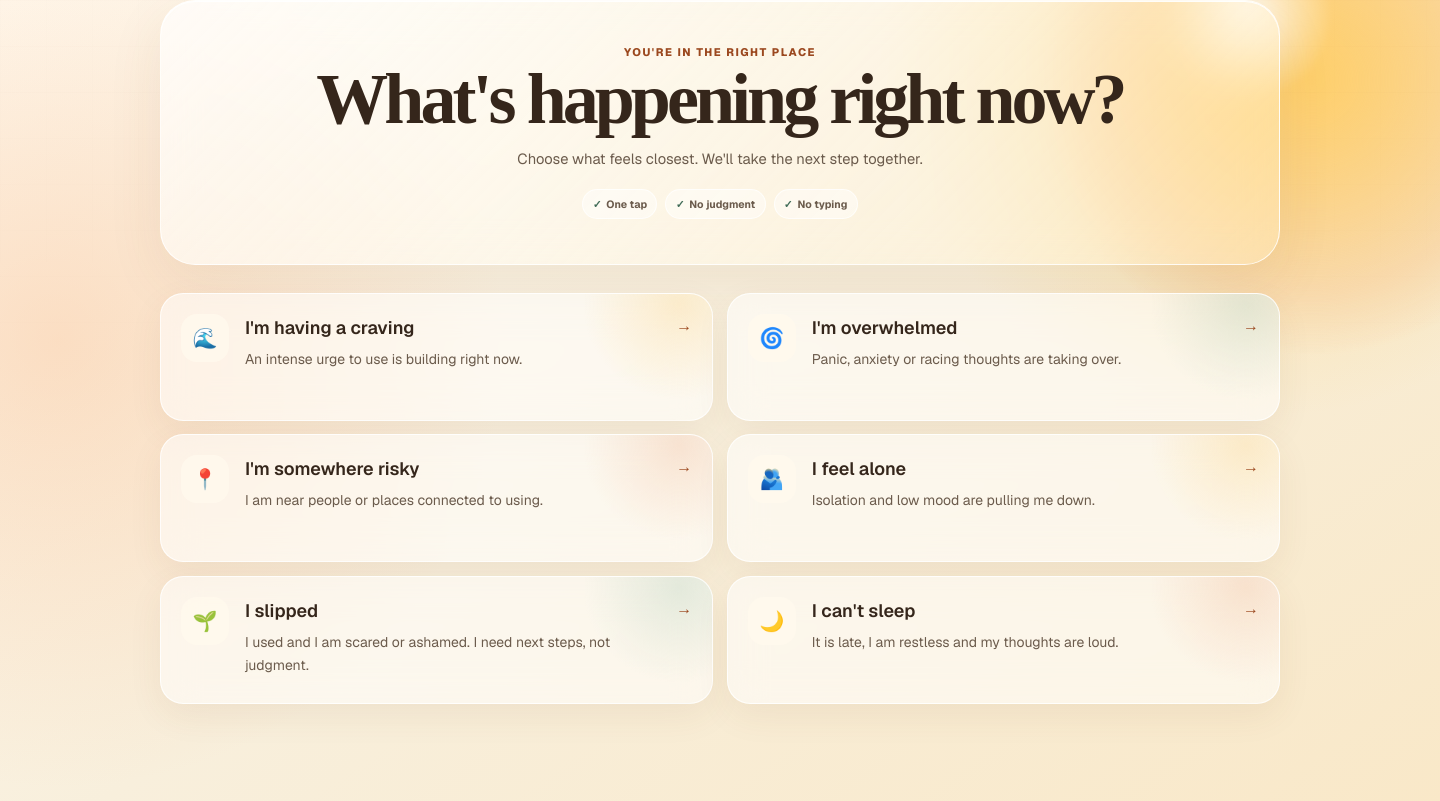
Test: SosFlow › keeps the fallback script when generation fails
Click the button "overwhelmed": (1003, 357) x1=727 y1=293 x2=1280 y2=421
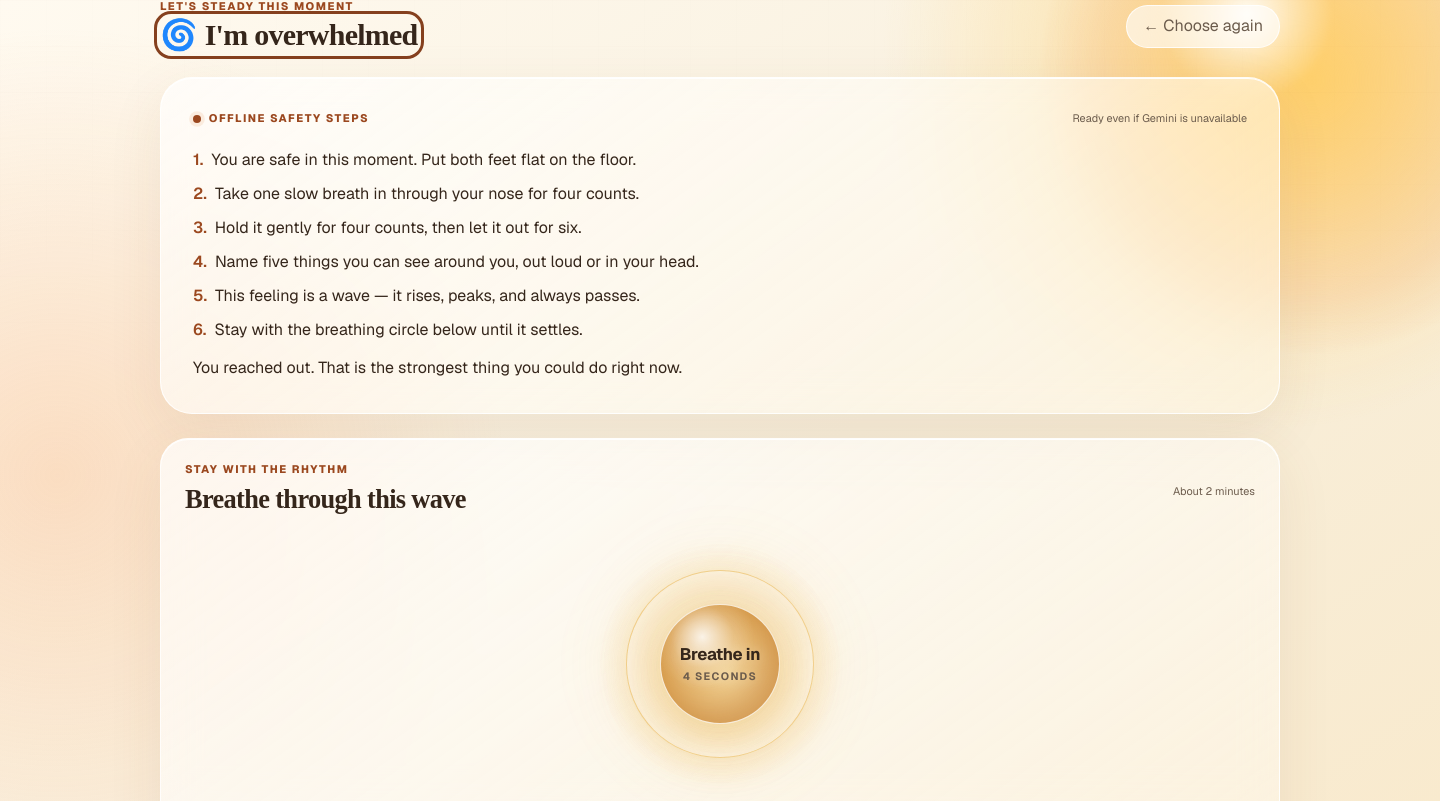
Result: the text "You are safe in this moment" is shown at x1=211 y1=149 x2=636 y2=170
